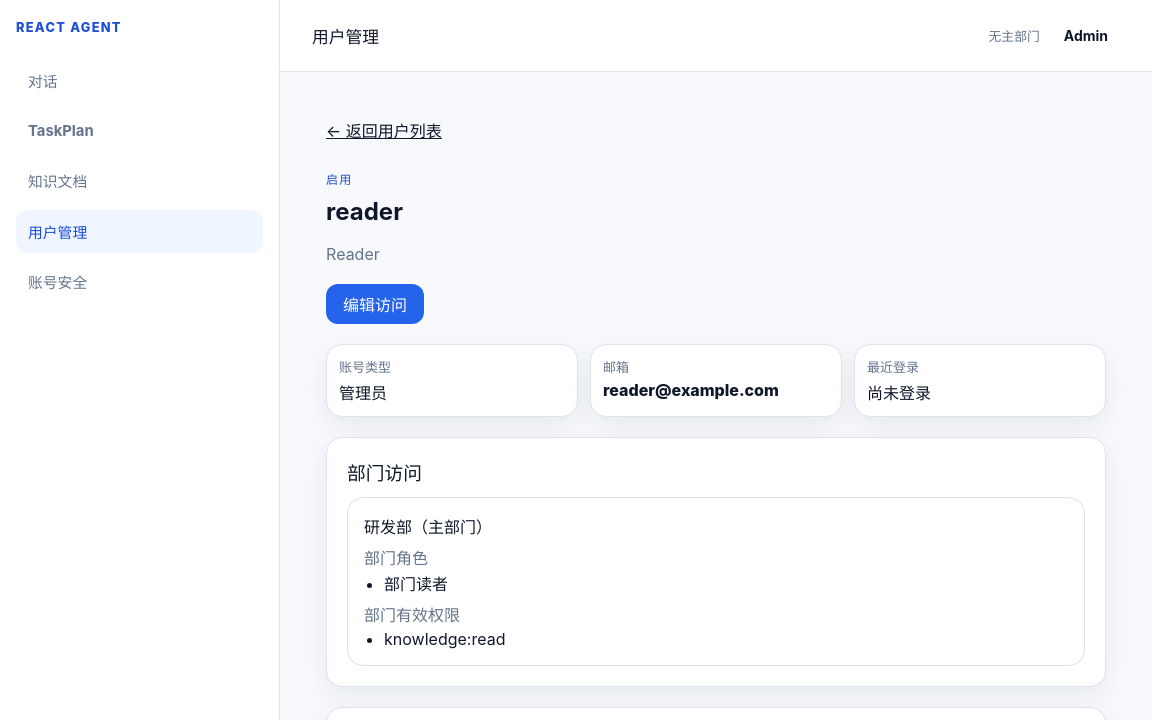
Test case: User Management access editor › atomically reloads identity after an allowed current-user access mutation
Step 1. Click the button "编辑访问" → (375, 304), box [326, 284, 424, 324]
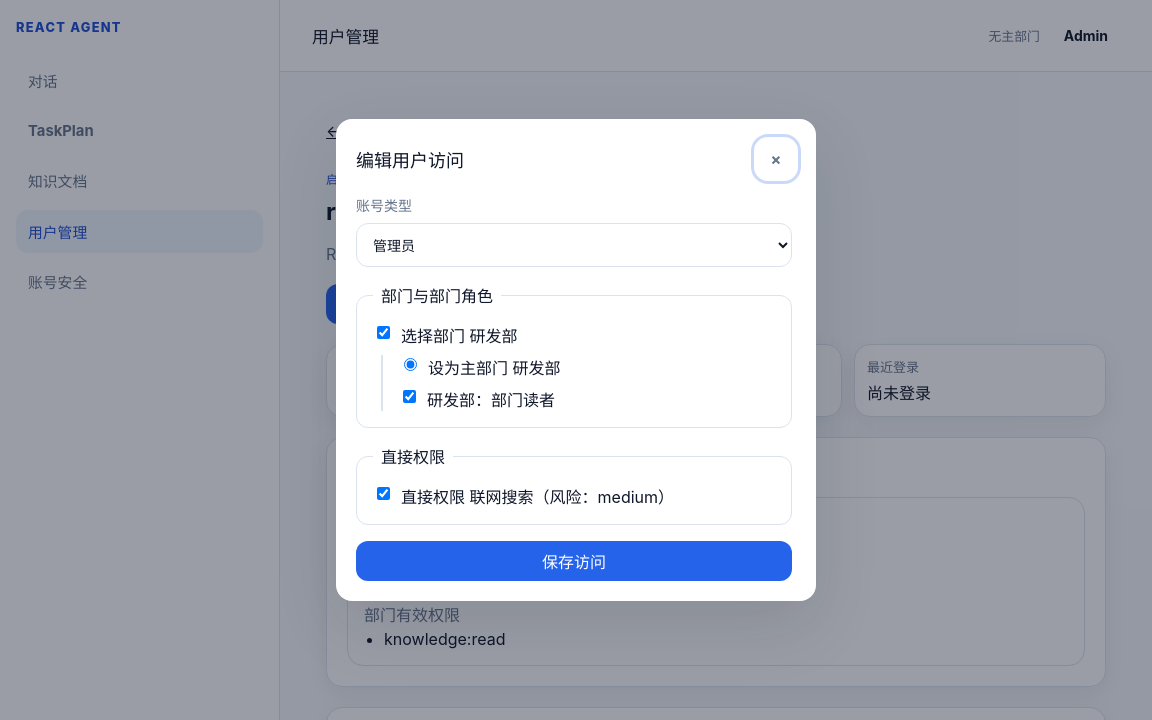
Step 2. Click the button "保存访问" → (574, 561), box [356, 541, 792, 581]
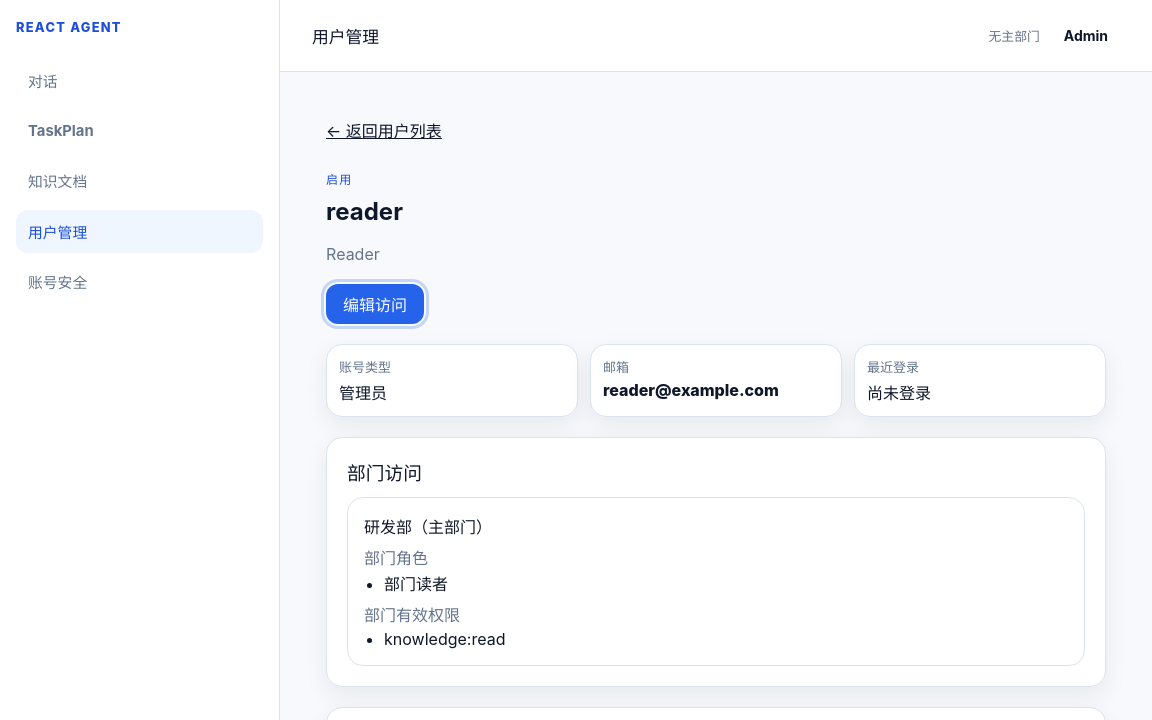
Expected: the heading "编辑用户访问" is gone
